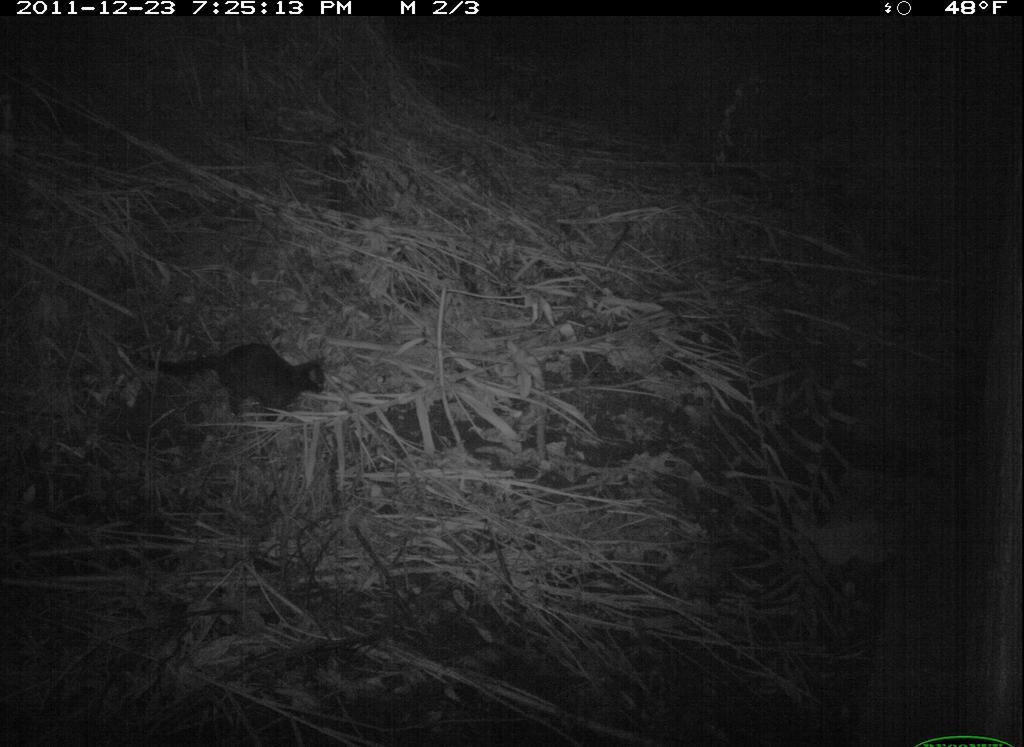cat: (139, 336, 336, 428)
